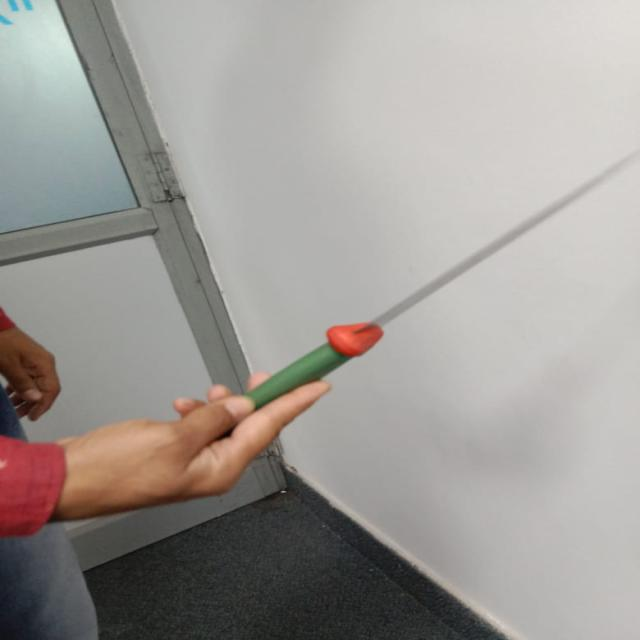Knife: (245, 151, 639, 410)
